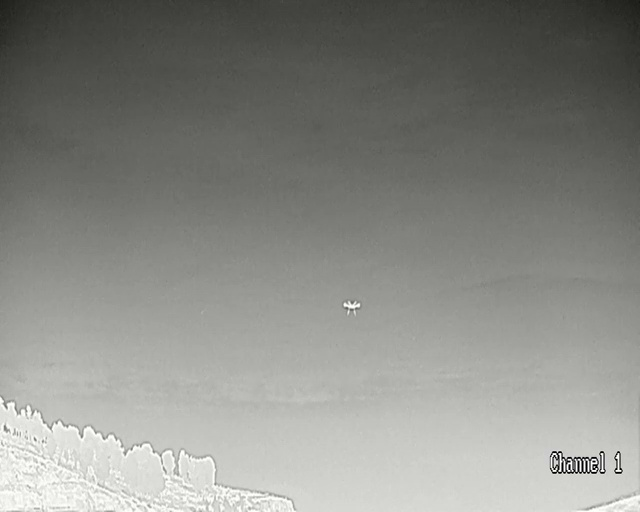uav: (343, 300, 359, 315)
